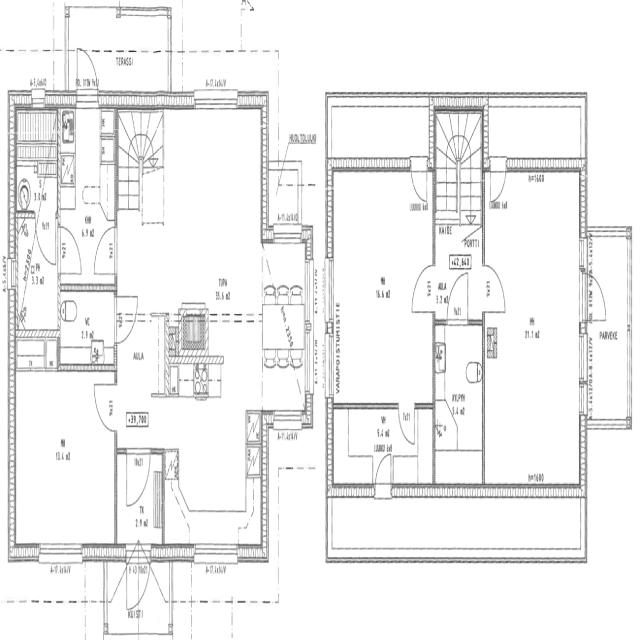door: (438, 237, 477, 322), (274, 162, 302, 232), (124, 444, 152, 512), (73, 41, 101, 107), (408, 256, 436, 314), (56, 222, 84, 280), (91, 220, 119, 276), (444, 266, 471, 324), (482, 257, 508, 315), (92, 375, 117, 432), (584, 270, 609, 320), (115, 295, 139, 346), (396, 397, 418, 449), (372, 446, 394, 497), (488, 156, 508, 208), (409, 155, 429, 205)
window: (191, 86, 239, 118), (36, 538, 84, 565), (192, 540, 240, 564), (576, 319, 590, 401), (323, 249, 337, 330), (586, 411, 629, 436), (302, 252, 314, 330), (302, 320, 314, 396), (324, 328, 336, 400), (271, 222, 303, 247), (272, 406, 302, 429), (8, 254, 18, 295)
zone: (484, 168, 584, 490), (332, 167, 432, 403), (12, 365, 116, 551), (170, 398, 262, 546), (58, 105, 117, 286), (586, 231, 632, 420), (434, 316, 484, 467), (262, 239, 307, 403), (115, 312, 169, 448), (15, 181, 59, 341), (58, 287, 116, 374), (433, 219, 484, 298), (119, 446, 162, 524), (15, 103, 60, 175), (584, 270, 609, 321)
